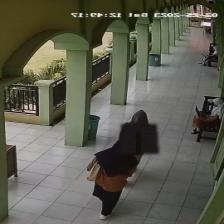Cadar_Niqab: (119, 109, 159, 153)
